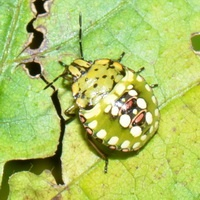insect: (19, 15, 159, 172), (47, 33, 159, 172)
